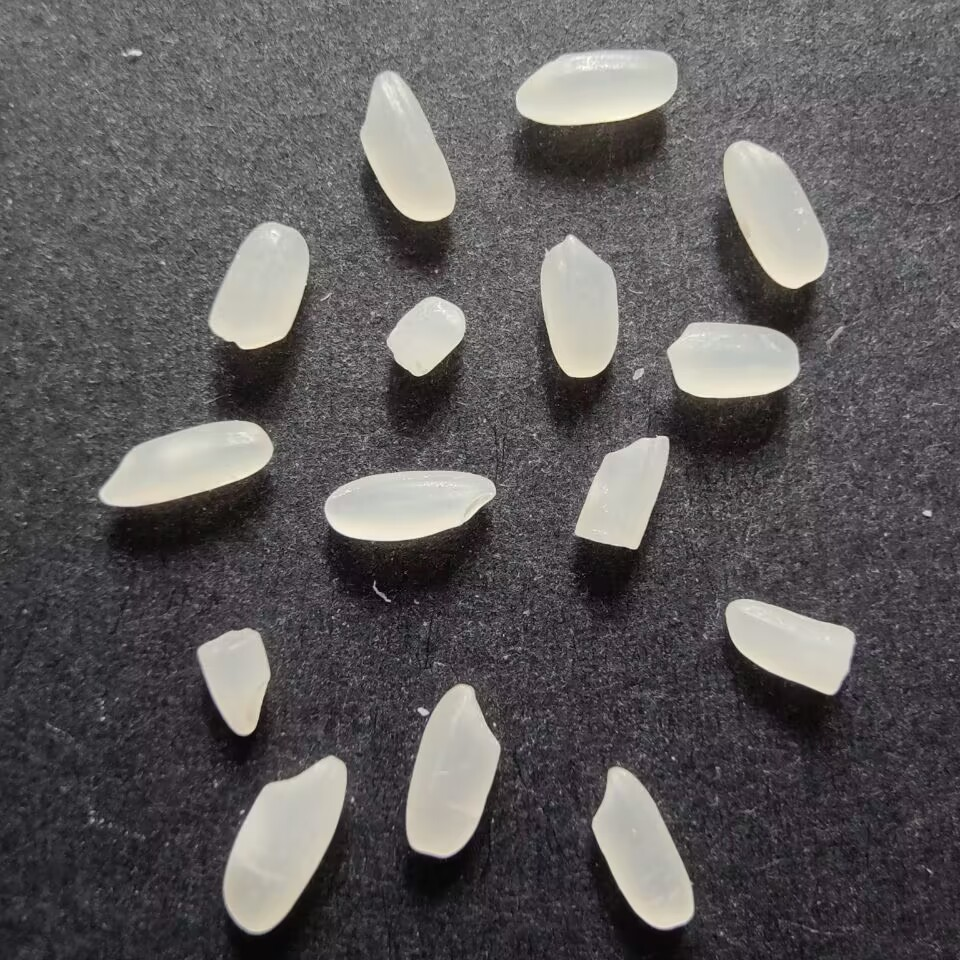broken: (205, 216, 315, 361), (721, 596, 859, 698), (568, 429, 677, 550), (191, 627, 276, 740), (381, 291, 469, 384)
rice: (221, 753, 353, 940), (586, 760, 696, 931), (402, 678, 504, 861), (95, 416, 275, 513), (720, 138, 833, 291), (356, 67, 457, 226), (321, 464, 501, 546), (508, 45, 683, 128), (537, 227, 621, 381), (663, 320, 806, 404)
